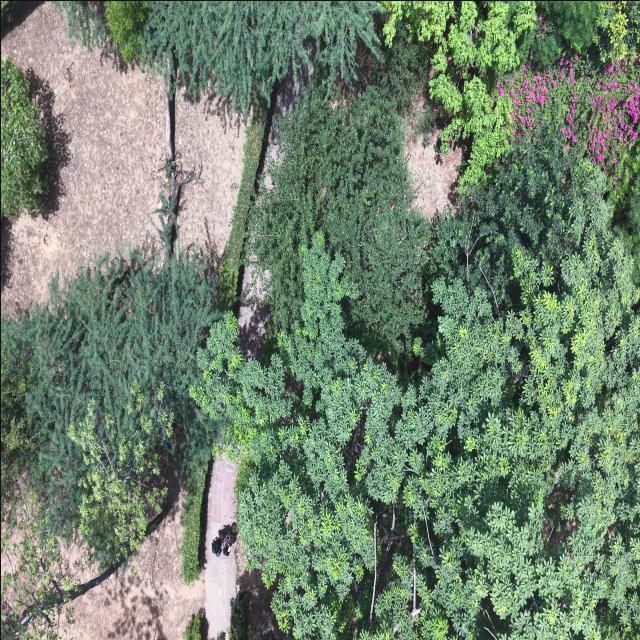DRY_AREA: (1, 3, 164, 314), (1, 3, 164, 313), (62, 456, 237, 639), (54, 484, 204, 639), (62, 493, 204, 639), (405, 97, 462, 221), (204, 455, 238, 639), (235, 540, 291, 639), (406, 132, 461, 220), (238, 263, 269, 358)
VEGETATION_TREE: (1, 1, 639, 639), (191, 136, 639, 639), (193, 197, 639, 639), (55, 1, 638, 190), (402, 202, 639, 638), (1, 168, 217, 579), (1, 249, 220, 639), (192, 234, 402, 638), (3, 250, 218, 563), (20, 251, 218, 562), (248, 46, 430, 362), (383, 1, 639, 186), (54, 1, 383, 110), (431, 125, 605, 314), (496, 57, 639, 280), (384, 1, 537, 184), (143, 1, 381, 110), (53, 382, 173, 559), (498, 57, 639, 191), (1, 492, 124, 639), (384, 1, 611, 80), (1, 494, 87, 639), (220, 104, 267, 307), (1, 58, 49, 217), (52, 1, 148, 63), (1, 323, 33, 498), (529, 1, 609, 64), (181, 449, 211, 584), (52, 1, 107, 49), (615, 173, 639, 282), (105, 1, 147, 63), (597, 1, 639, 61), (229, 591, 249, 639), (184, 609, 207, 639), (1, 1, 20, 29), (1, 1, 13, 26)
